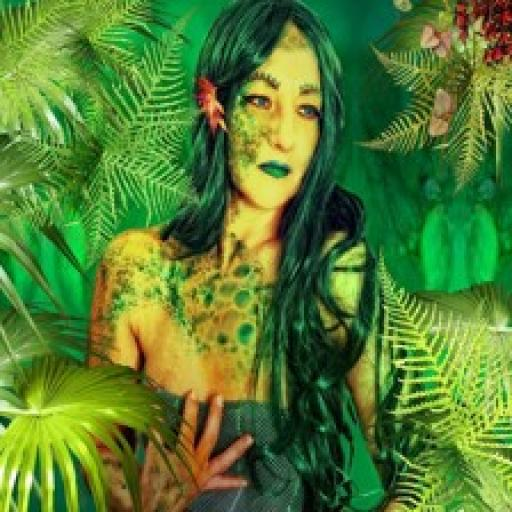human: (71, 2, 430, 512)
